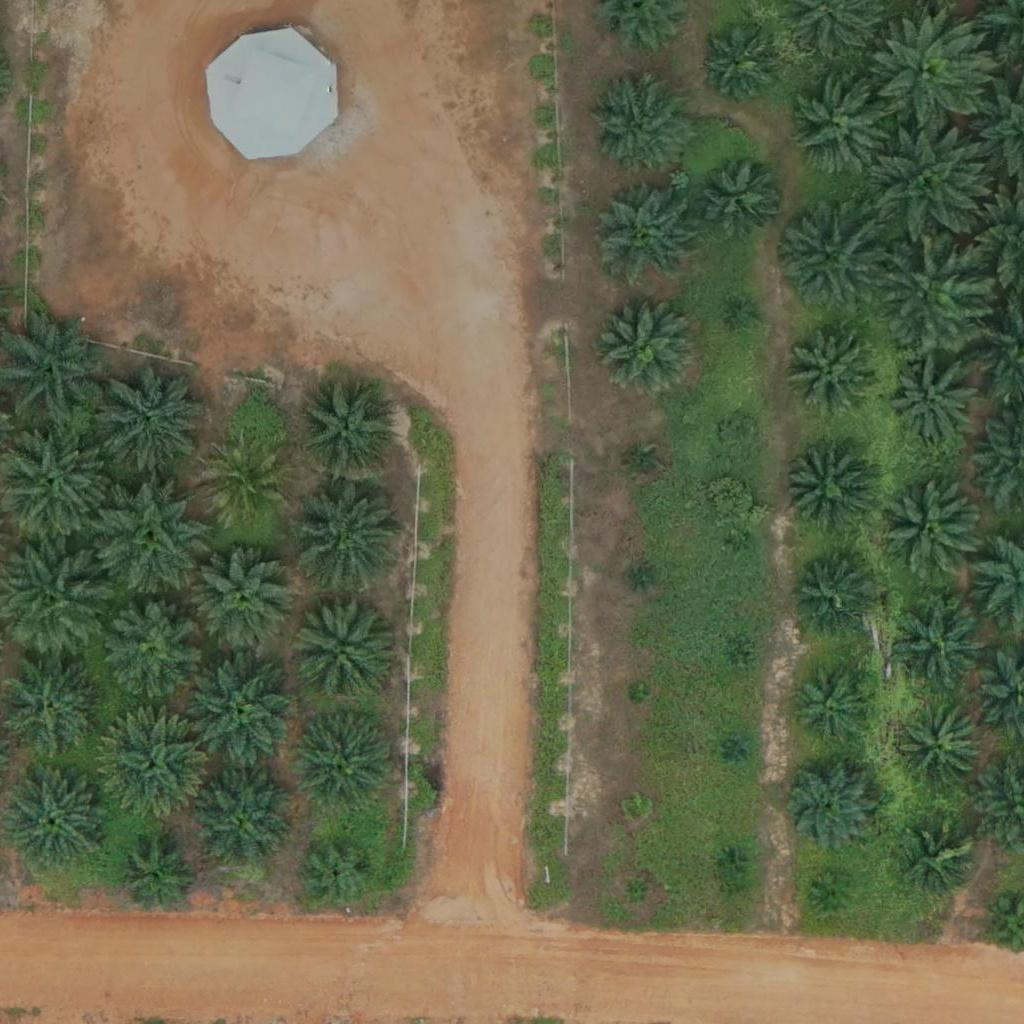Kelapa_Sawit: (774, 201, 887, 315), (98, 364, 211, 478), (96, 480, 209, 594), (185, 653, 298, 766), (874, 129, 986, 243), (877, 235, 989, 349), (98, 714, 210, 827), (873, 19, 985, 132), (774, 750, 886, 863), (293, 479, 405, 592), (587, 73, 687, 174), (880, 480, 980, 581), (888, 592, 988, 693), (595, 184, 695, 285), (593, 292, 693, 393), (295, 379, 395, 480), (192, 771, 292, 872), (1, 662, 101, 763), (5, 769, 105, 870), (792, 79, 892, 179), (290, 599, 390, 699), (295, 713, 395, 813), (196, 552, 296, 652), (102, 602, 202, 702), (792, 661, 880, 750), (789, 553, 877, 641), (898, 705, 986, 793), (201, 442, 289, 530), (890, 358, 977, 446), (790, 325, 877, 413), (783, 447, 870, 535), (696, 154, 783, 242), (301, 835, 376, 911), (703, 26, 778, 102), (905, 823, 980, 898), (119, 841, 194, 916), (721, 417, 759, 455), (814, 872, 852, 910), (734, 302, 759, 327), (730, 532, 755, 557), (724, 648, 749, 673), (630, 452, 655, 477), (630, 565, 655, 590), (626, 683, 651, 708), (622, 795, 647, 820), (625, 879, 650, 904), (725, 737, 750, 762), (718, 847, 743, 872)
